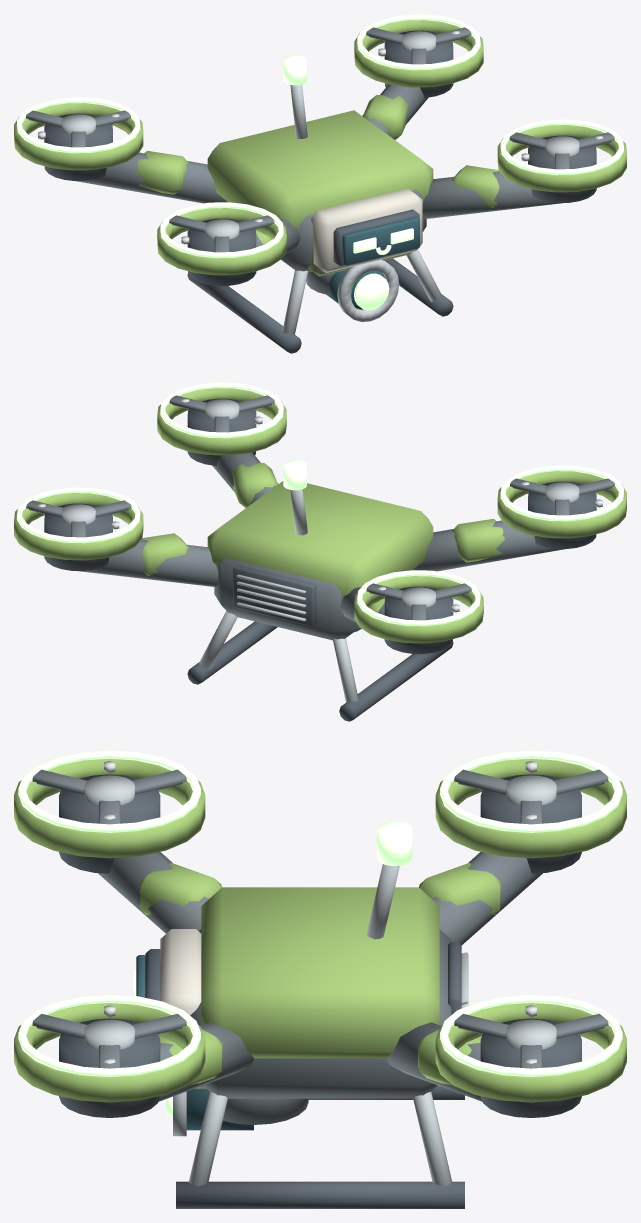
The model's file is scout_standard.glb.
The picture shows the model from 3 angles, top to bottom: view 1: azimuth 30°, elevation 25°; view 2: azimuth 150°, elevation 25°; view 3: azimuth 270°, elevation 25°; orthographic projection. The views are drawn at different scales.
Parts seen in each view (by area): view 1: Armor_lime, RotorGuard_lime, RotorLED_glowgreen, Boom_frame, Motor_black, BoomArmor_lime, RotorBlade_frame, HeadArmor_cream, Skid_black, Rotor_steel, FaceGlass_glass, Camera_steel (+8 smaller); view 2: Armor_lime, RotorGuard_lime, RotorLED_glowgreen, Boom_frame, Motor_black, BoomArmor_lime, RotorBlade_frame, Core_frame, Skid_black, Cooling_black, Rotor_steel, LandingGear_steel (+3 smaller); view 3: Armor_lime, RotorGuard_lime, RotorLED_glowgreen, Motor_black, Boom_frame, Core_frame, Skid_black, RotorBlade_frame, BoomArmor_lime, Rotor_steel, LandingGear_steel, HeadArmor_cream (+7 smaller).
Boxes of the visible parts, bbox=[...] form: Armor_lime: bbox=[207, 110, 433, 232]; RotorGuard_lime: bbox=[14, 20, 626, 275]; RotorLED_glowgreen: bbox=[17, 14, 623, 258]; Boom_frame: bbox=[75, 84, 562, 254]; Motor_black: bbox=[44, 30, 596, 285]; BoomArmor_lime: bbox=[136, 95, 499, 244]; RotorBlade_frame: bbox=[26, 27, 614, 252]; HeadArmor_cream: bbox=[311, 188, 422, 272]; Skid_black: bbox=[187, 258, 453, 353]; Rotor_steel: bbox=[61, 31, 579, 239]; FaceGlass_glass: bbox=[342, 217, 419, 265]; Camera_steel: bbox=[337, 259, 399, 321]; Armor_lime: bbox=[207, 481, 433, 600]; RotorGuard_lime: bbox=[14, 388, 626, 643]; RotorLED_glowgreen: bbox=[17, 382, 623, 626]; Boom_frame: bbox=[78, 452, 565, 622]; Motor_black: bbox=[44, 398, 596, 653]; BoomArmor_lime: bbox=[141, 463, 504, 612]; RotorBlade_frame: bbox=[26, 395, 614, 620]; Core_frame: bbox=[214, 557, 414, 640]; Skid_black: bbox=[187, 621, 453, 721]; Cooling_black: bbox=[233, 565, 316, 626]; Rotor_steel: bbox=[61, 399, 579, 607]; LandingGear_steel: bbox=[199, 611, 358, 702]; Armor_lime: bbox=[201, 887, 439, 1058]; RotorGuard_lime: bbox=[14, 758, 626, 1102]; RotorLED_glowgreen: bbox=[18, 750, 622, 1077]; Motor_black: bbox=[59, 774, 581, 1117]; Boom_frame: bbox=[98, 852, 542, 1101]; Core_frame: bbox=[190, 929, 451, 1098]; Skid_black: bbox=[176, 1085, 464, 1208]; RotorBlade_frame: bbox=[32, 769, 608, 1068]; BoomArmor_lime: bbox=[140, 863, 500, 1084]; Rotor_steel: bbox=[84, 775, 556, 1049]; LandingGear_steel: bbox=[189, 1085, 451, 1186]; HeadArmor_cream: bbox=[160, 929, 201, 1015].
Bounding box in the file's own units: 1.97 × 0.9158 × 1.57.
